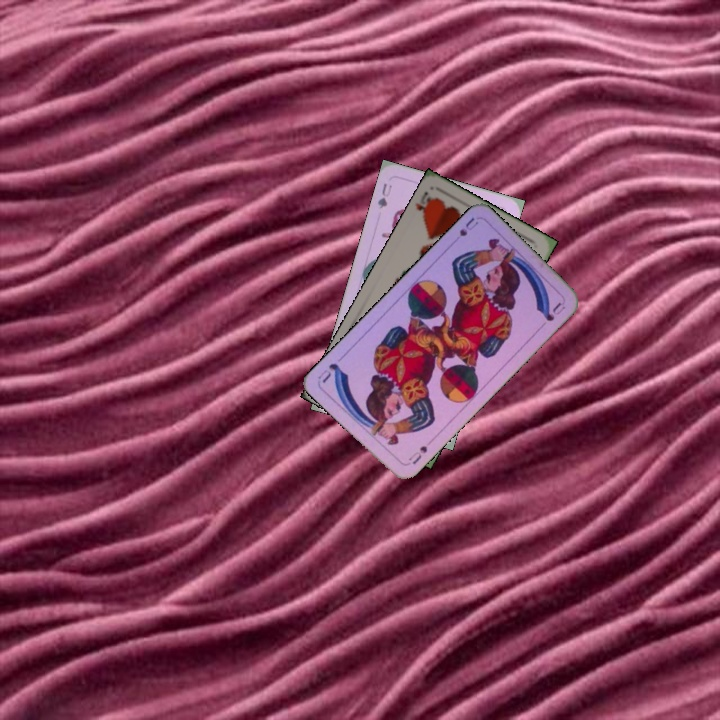GU: (373, 179, 395, 211)
HO: (412, 187, 438, 224)
SU: (447, 213, 481, 247), (403, 442, 430, 468)
